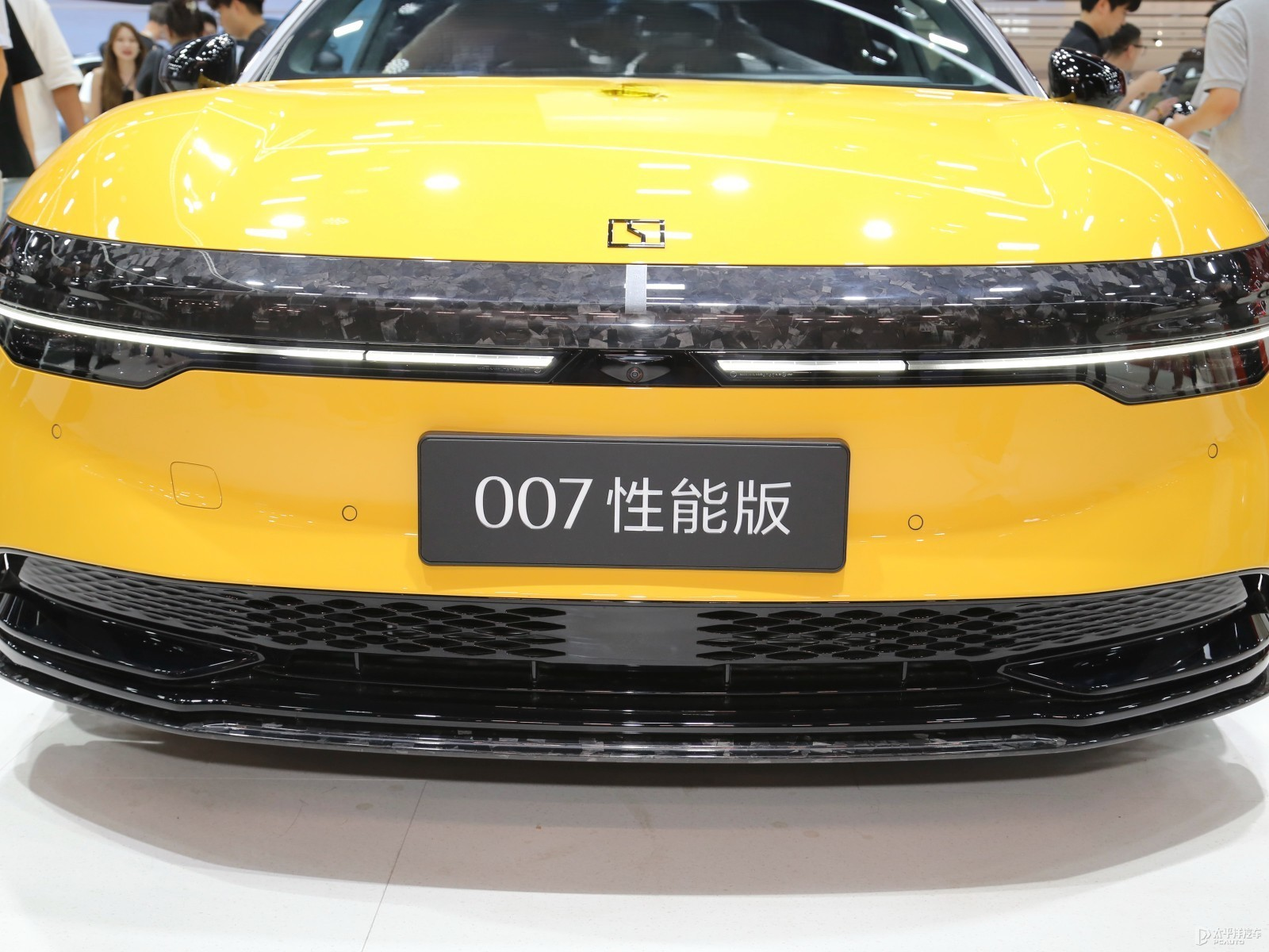ZEEKR: (608, 220, 665, 248)
